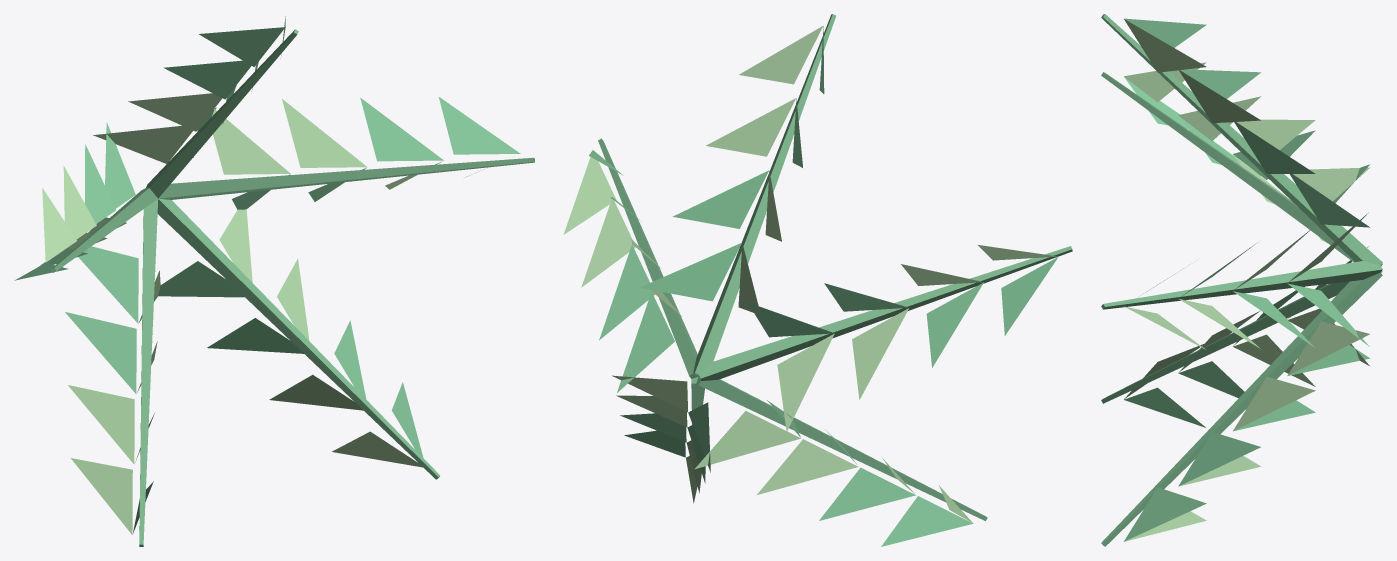
Rendered from fern_small.glb.
The picture shows the model from 3 angles, left to right: view 1: azimuth 30°, elevation 25°; view 2: azimuth 150°, elevation 25°; view 3: azimuth 270°, elevation 25°; orthographic projection. The views are drawn at different scales.
Parts seen in each view (by area): view 1: fern_small_fern, fern_small_fern_light, fern_small_grass_dark; view 2: fern_small_fern_light, fern_small_fern, fern_small_grass_dark; view 3: fern_small_grass_dark, fern_small_fern_light, fern_small_fern.
Boxes of the visible parts, x1,y1,x2,y2 form: fern_small_fern: [14, 27, 520, 534]; fern_small_fern_light: [42, 16, 484, 534]; fern_small_grass_dark: [51, 29, 534, 546]; fern_small_fern_light: [563, 26, 1057, 523]; fern_small_fern: [589, 26, 1058, 546]; fern_small_grass_dark: [598, 14, 1072, 521]; fern_small_grass_dark: [1101, 14, 1382, 546]; fern_small_fern_light: [1124, 19, 1370, 541]; fern_small_fern: [1124, 18, 1370, 541].
Size of the model in its own units: 0.9214 by 0.8804 by 0.4828.
